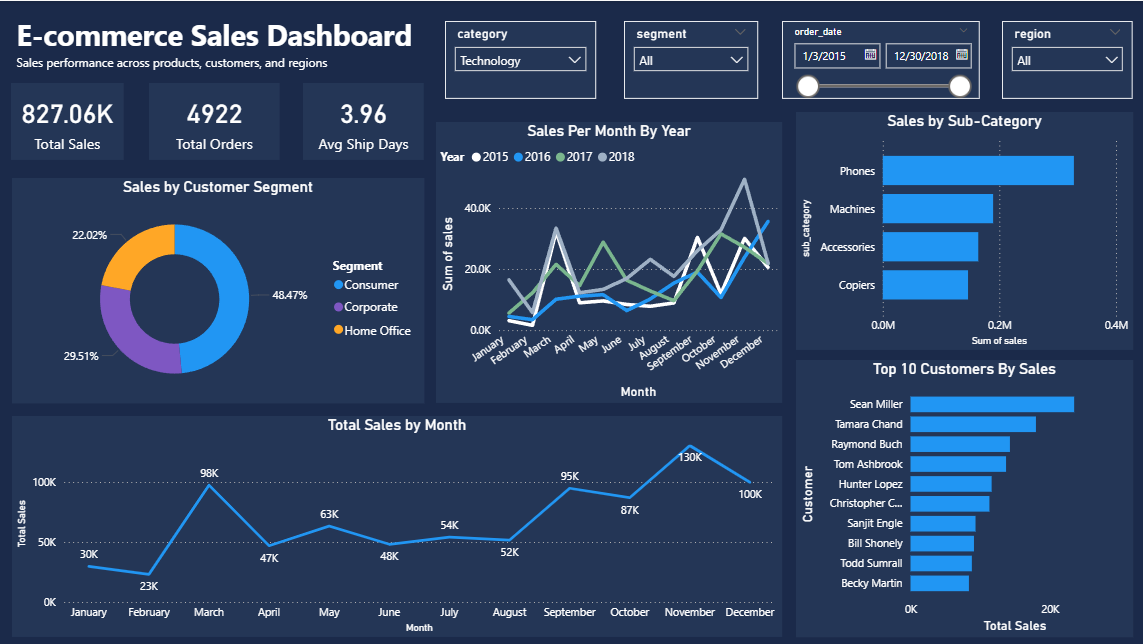

The page's visual inventory and layout, read from the dashboard file:
{"tool":"powerbi","page":{"name":"Page 1","canvas":[1280,720],"ordinal":0},"visuals":[{"type":"card","fields":{"Values":["public orders.Avg Ship Days"]},"box":[338.9,91.9,135.3,85.8],"z":0,"group":"g1"},{"type":"lineChart","fields":{"Y":["public order_items.Total Sales"],"Category":["public orders.order_date.Variation.Date Hierarchy.Month"]},"box":[13.4,463.9,860.8,247.1],"z":0},{"type":"card","fields":{"Values":["public order_items.Total Sales"]},"box":[12.8,91.9,126.2,85.8],"z":1000,"group":"g1"},{"type":"textbox","box":[13.1,10.1,473.4,55.5],"z":2000},{"type":"card","fields":{"Values":["public orders.Total Orders"]},"box":[167.2,91.9,146.4,85.8],"z":2000,"group":"g1"},{"type":"textbox","box":[13.4,54.8,362.2,36.9],"z":3000},{"type":"group","id":"g1","title":"Group 1","box":[12.8,91.9,462,86.1],"z":4000},{"type":"slicer","fields":{"Values":["public orders.order_date"]},"box":[874.2,22.4,221.3,87.2],"z":5000},{"type":"slicer","fields":{"Values":["public customers.segment"]},"box":[697.6,22.4,149.8,87.2],"z":6000},{"type":"slicer","fields":{"Values":["public products.category"]},"box":[497.5,22.4,168.8,87.2],"z":7000},{"type":"slicer","fields":{"Values":["public locations.region"]},"box":[1120.1,22.4,146.4,87.2],"z":8000},{"type":"donutChart","title":"Sales by Customer Segment","fields":{"Category":["public customers.segment"],"Y":["Sum(public order_items.sales)"]},"box":[13.4,197.9,460.6,251.5],"z":8001},{"type":"clusteredBarChart","title":"Top 10 Customers By Sales","fields":{"Category":["public customers.customer_name"],"Y":["Sum(public order_items.sales)"]},"box":[889.9,401.3,376.7,309.7],"z":8002},{"type":"lineChart","title":"Sales Per Month By Year","fields":{"Series":["public orders.Year"],"Y":["Sum(public order_items.sales)"],"Category":["public orders.order_date.Variation.Date Hierarchy.Month"]},"box":[487.4,135.3,386.8,314.1],"z":8003},{"type":"clusteredBarChart","title":"Sales by Sub-Category","fields":{"Category":["public products.sub_category"],"Y":["Sum(public order_items.sales)"]},"box":[889.9,124.1,376.7,266.1],"z":8004}]}

Visuals, with their boxes in screenshot pixels (x1, y1, x2, y2), scaled from the page's 1280x720 canvas onto the 1143x644 screenshot:
card - public orders.Avg Ship Days: region(303, 82, 423, 159)
lineChart - public order_items.Total Sales x public orders.order_date.Variation.Date Hierarchy.Month: region(12, 415, 781, 636)
card - public order_items.Total Sales: region(11, 82, 124, 159)
textbox: region(12, 9, 434, 59)
card - public orders.Total Orders: region(149, 82, 280, 159)
textbox: region(12, 49, 335, 82)
"Group 1" group: region(11, 82, 424, 159)
slicer - public orders.order_date: region(781, 20, 978, 98)
slicer - public customers.segment: region(623, 20, 757, 98)
slicer - public products.category: region(444, 20, 595, 98)
slicer - public locations.region: region(1000, 20, 1131, 98)
"Sales by Customer Segment" donutChart: region(12, 177, 423, 402)
"Top 10 Customers By Sales" clusteredBarChart: region(795, 359, 1131, 636)
"Sales Per Month By Year" lineChart: region(435, 121, 781, 402)
"Sales by Sub-Category" clusteredBarChart: region(795, 111, 1131, 349)
